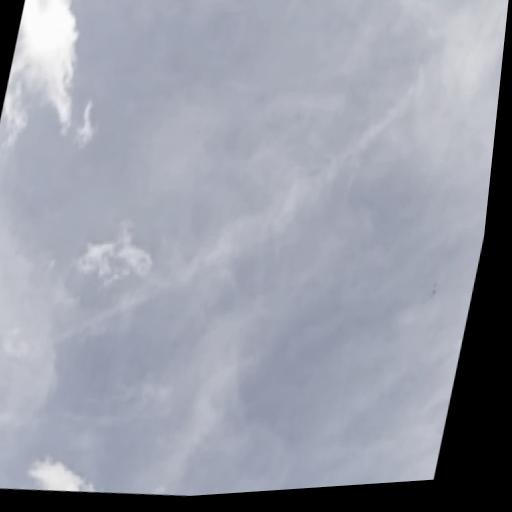drones: (424, 278, 442, 303)
